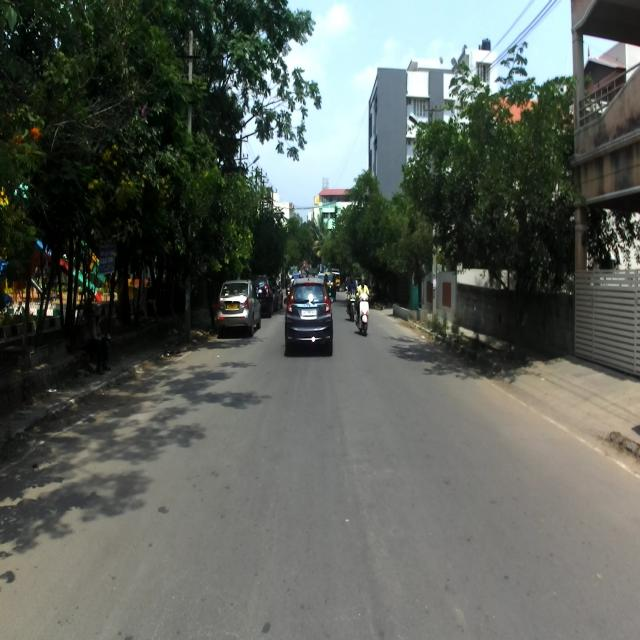autorickshaw: (324, 270, 337, 302)
car: (283, 267, 333, 356), (216, 277, 261, 337)
scooter: (353, 288, 370, 334)
